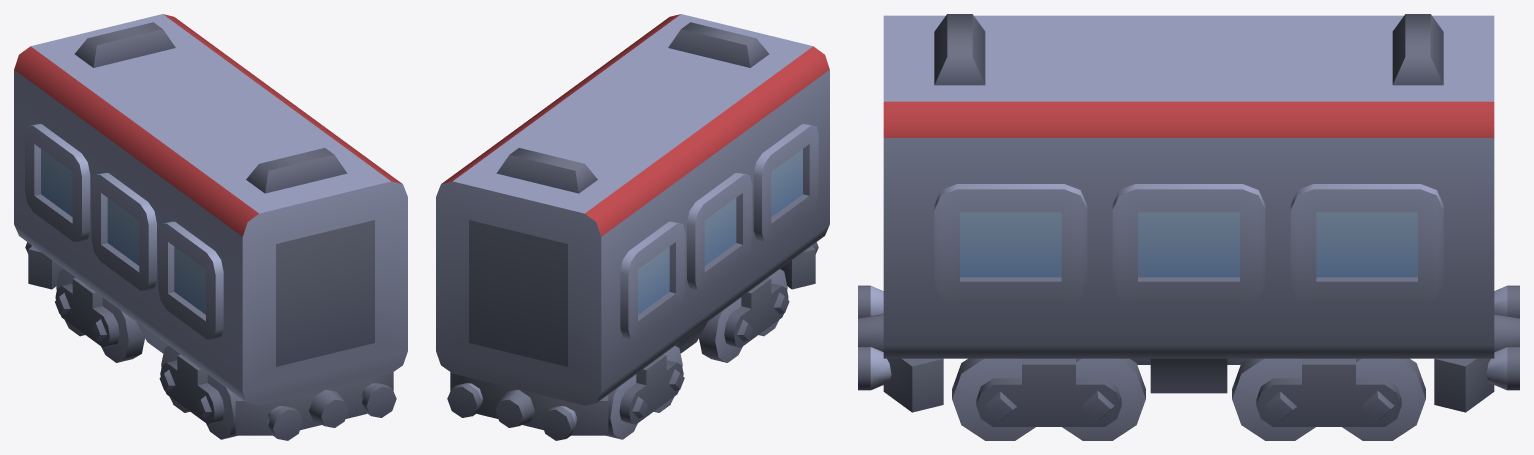
The model's file is train-electric-subway-b.glb.
The picture shows the model from 3 angles, left to right: view 1: azimuth 30°, elevation 25°; view 2: azimuth 150°, elevation 25°; view 3: azimuth 270°, elevation 25°; orthographic projection. The views are drawn at different scales.
Parts seen in each view (by area): view 1: train-electric-subway-b, wheels-back, wheels-front; view 2: train-electric-subway-b, wheels-front, wheels-back; view 3: train-electric-subway-b, wheels-front, wheels-back.
Part boxes in pixels (x1,y1,x2,y2): train-electric-subway-b: (14,14,407,440); wheels-back: (55,269,144,362); wheels-front: (159,346,237,439); train-electric-subway-b: (436,14,829,440); wheels-front: (699,269,789,362); wheels-back: (606,346,684,439); train-electric-subway-b: (858,14,1519,412); wheels-front: (952,358,1145,440); wheels-back: (1232,358,1425,440).
Bounding box in the file's own units: 1.1 × 1.57 × 2.6.
